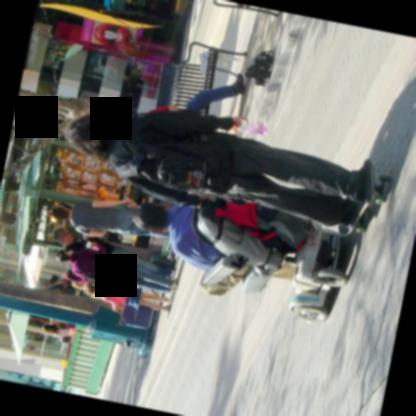backpack: (115, 114, 234, 195), (213, 193, 297, 256)
handbag: (116, 304, 153, 327), (72, 268, 110, 287), (152, 255, 173, 265)
